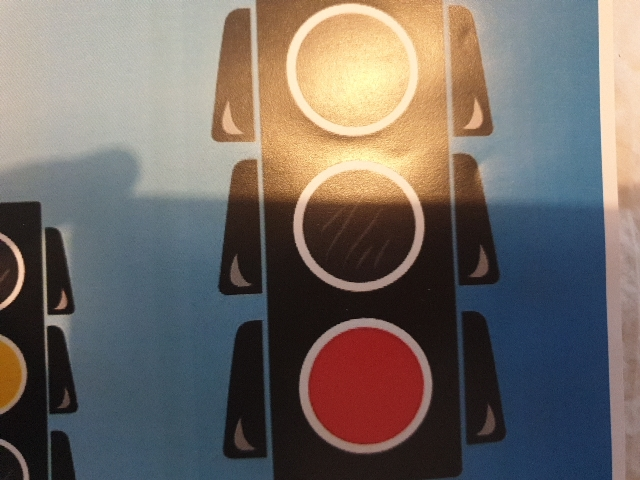red: (280, 10, 432, 444)
